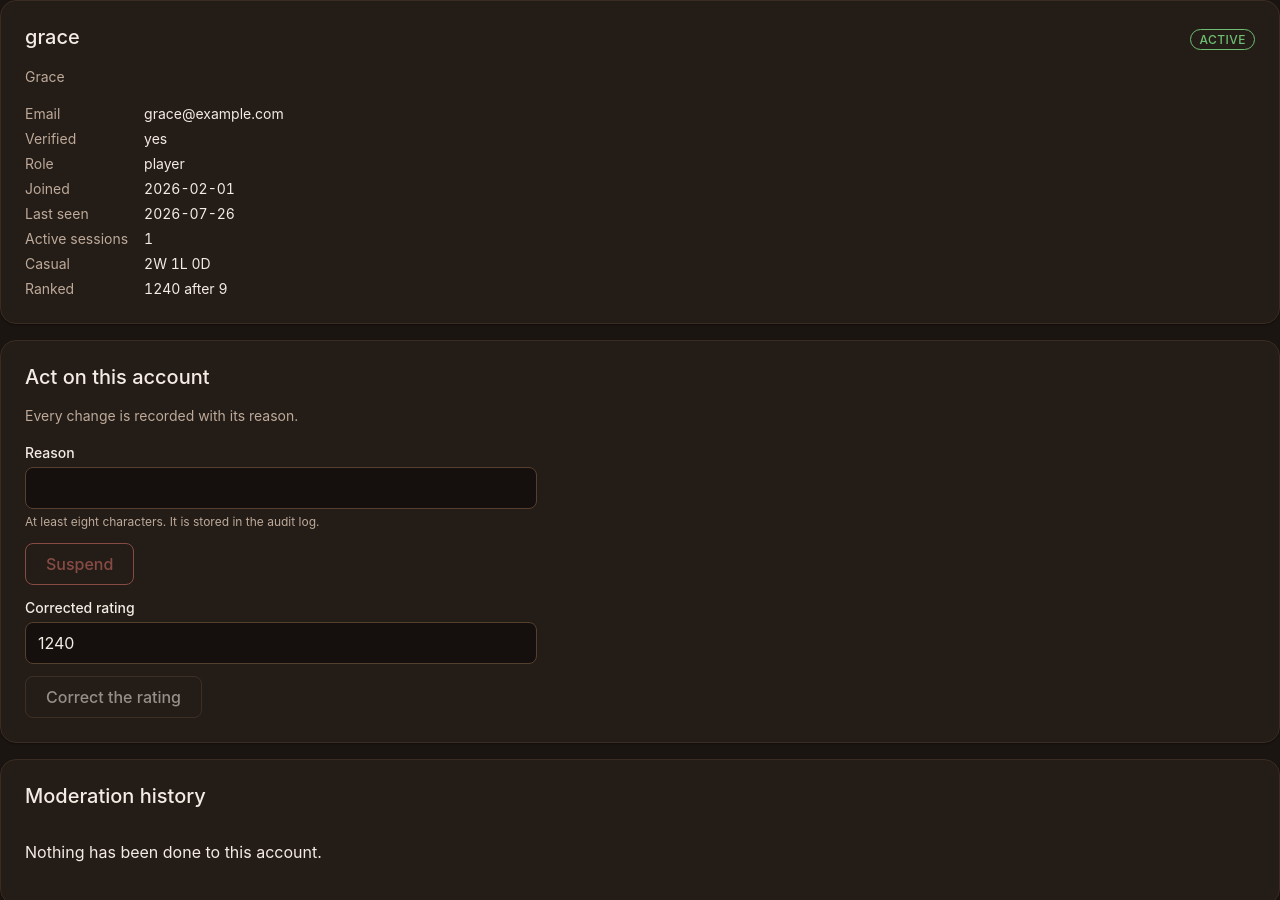
Test: one account › says why a change was refused
This screenshot has width=1280, height=900.
Type "abusive messages" into the field with test id "admin-reason".
click(281, 488); type("abusive messages")  # box [25, 467, 537, 509]
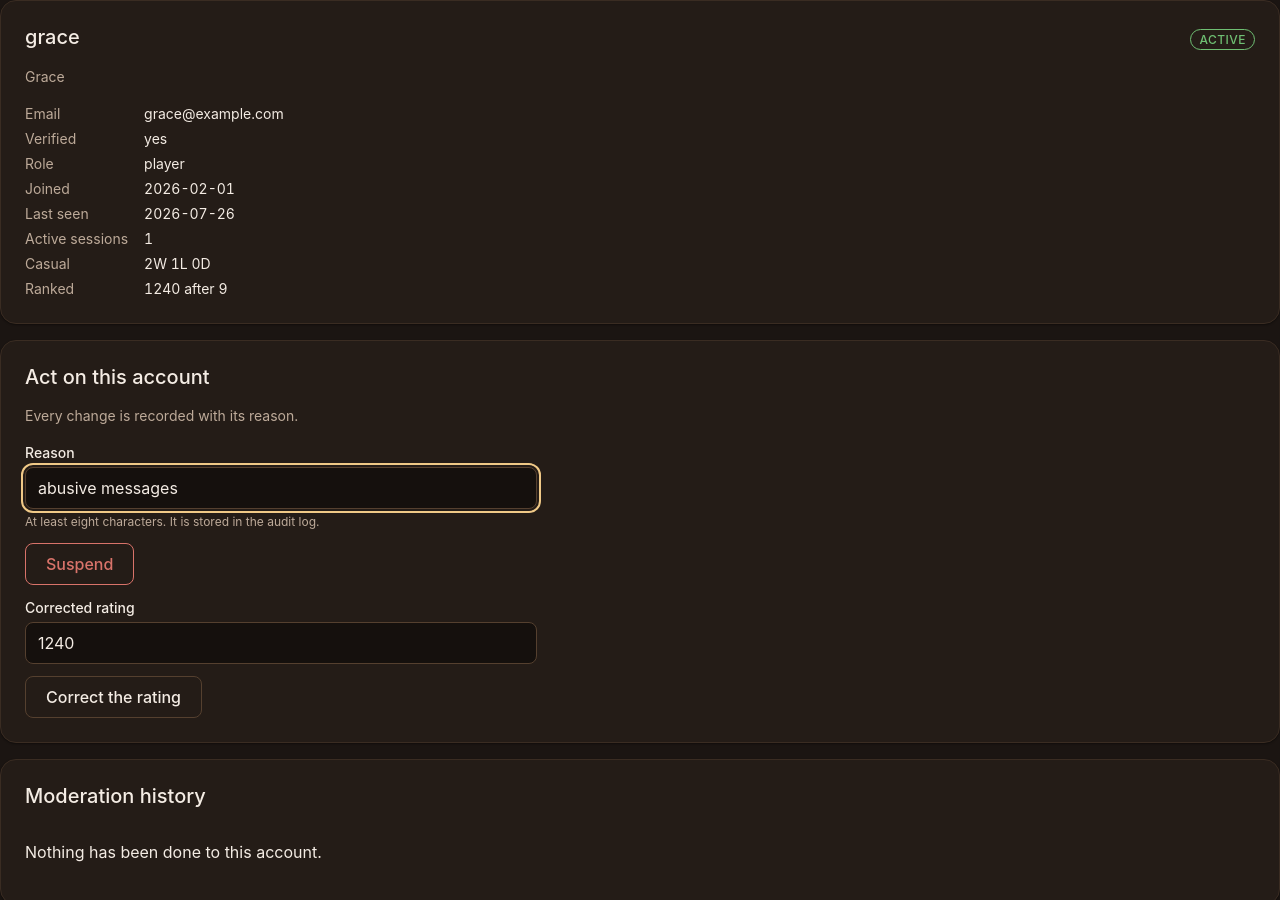
Click the button with test id "admin-suspend".
click(80, 564)  # box [25, 543, 134, 585]
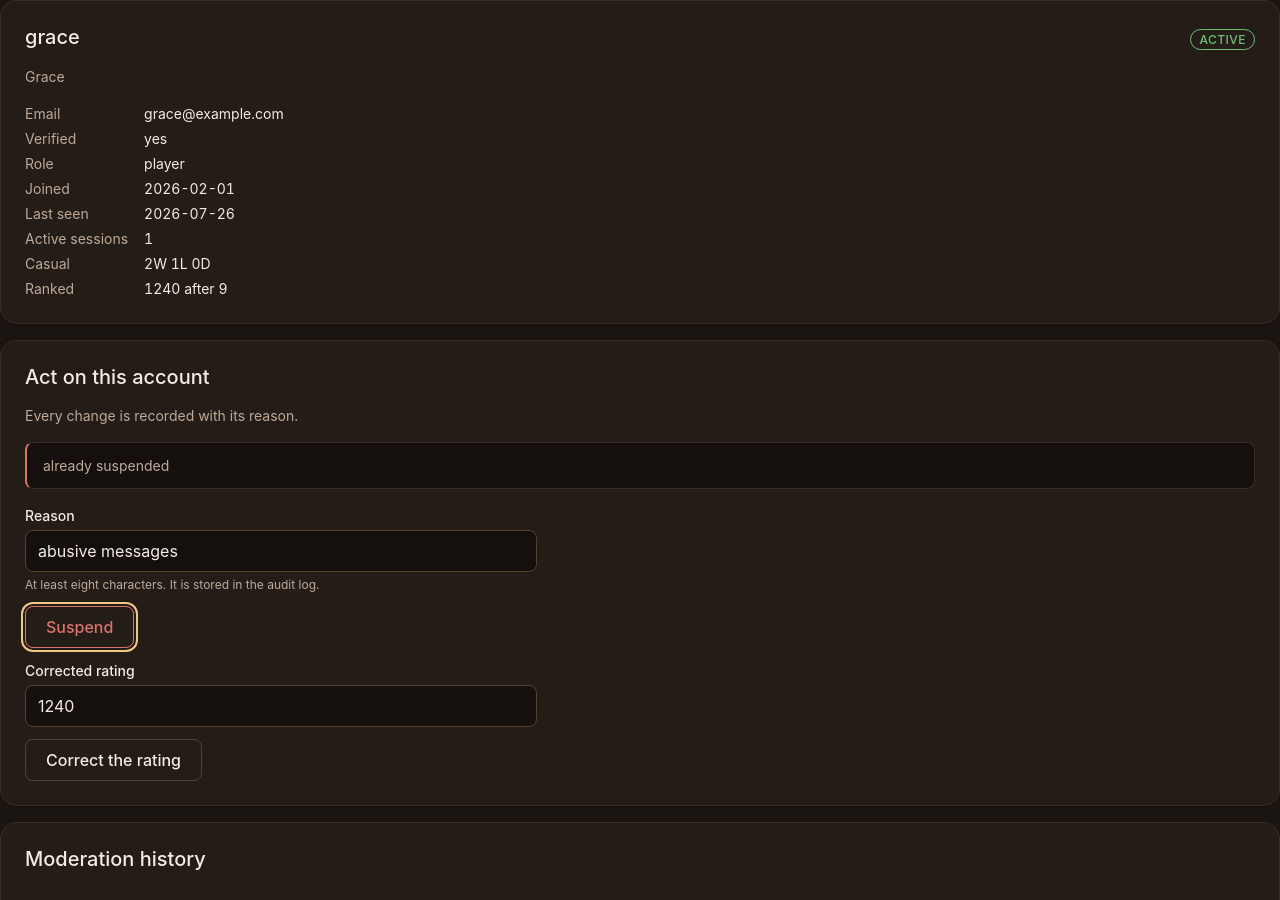
Check: the text "already suspended" is shown, box [43, 455, 169, 476]
